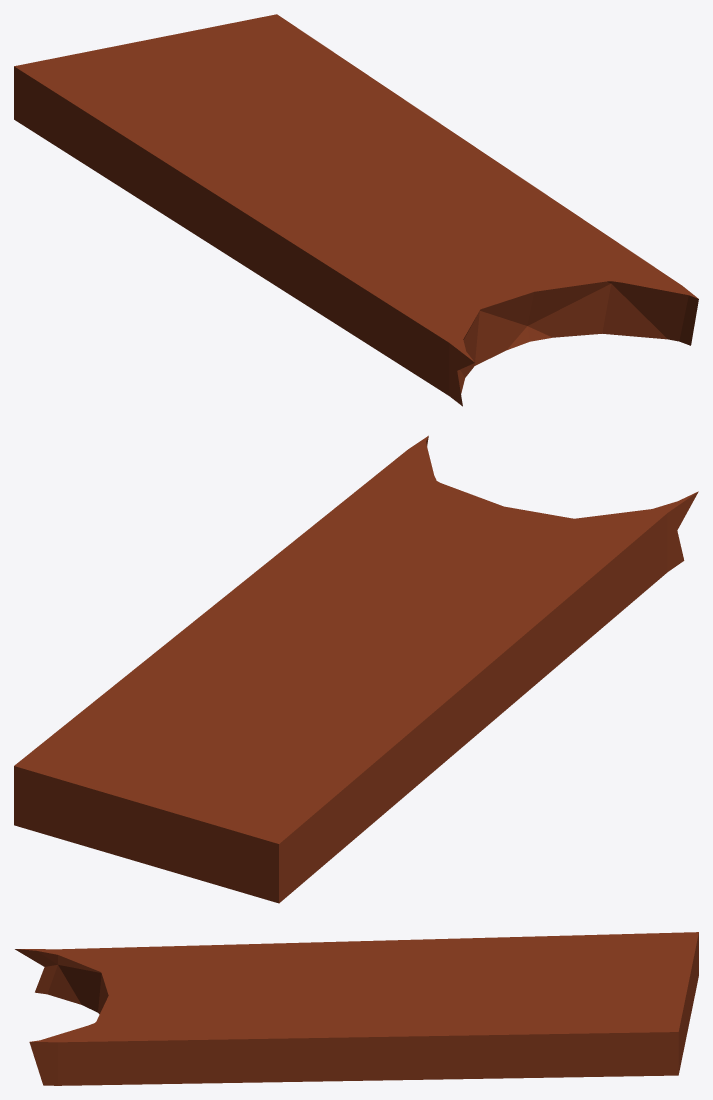
The model's file is BrokenPlanche8.fbx.
3 views of the same model, one above another, from view 1: azimuth 30°, elevation 25°; view 2: azimuth 150°, elevation 25°; view 3: azimuth 270°, elevation 25° (orthographic). The views are drawn at different scales.
Parts seen in each view (by area): view 1: BrokenPlanche.008; view 2: BrokenPlanche.008; view 3: BrokenPlanche.008.
Boxes of the visible parts, x1,y1,x2,y2 form: BrokenPlanche.008: (14, 14, 698, 406); BrokenPlanche.008: (14, 435, 698, 903); BrokenPlanche.008: (15, 932, 698, 1085).
Size of the model in its own units: 209 by 38.61 by 550.
